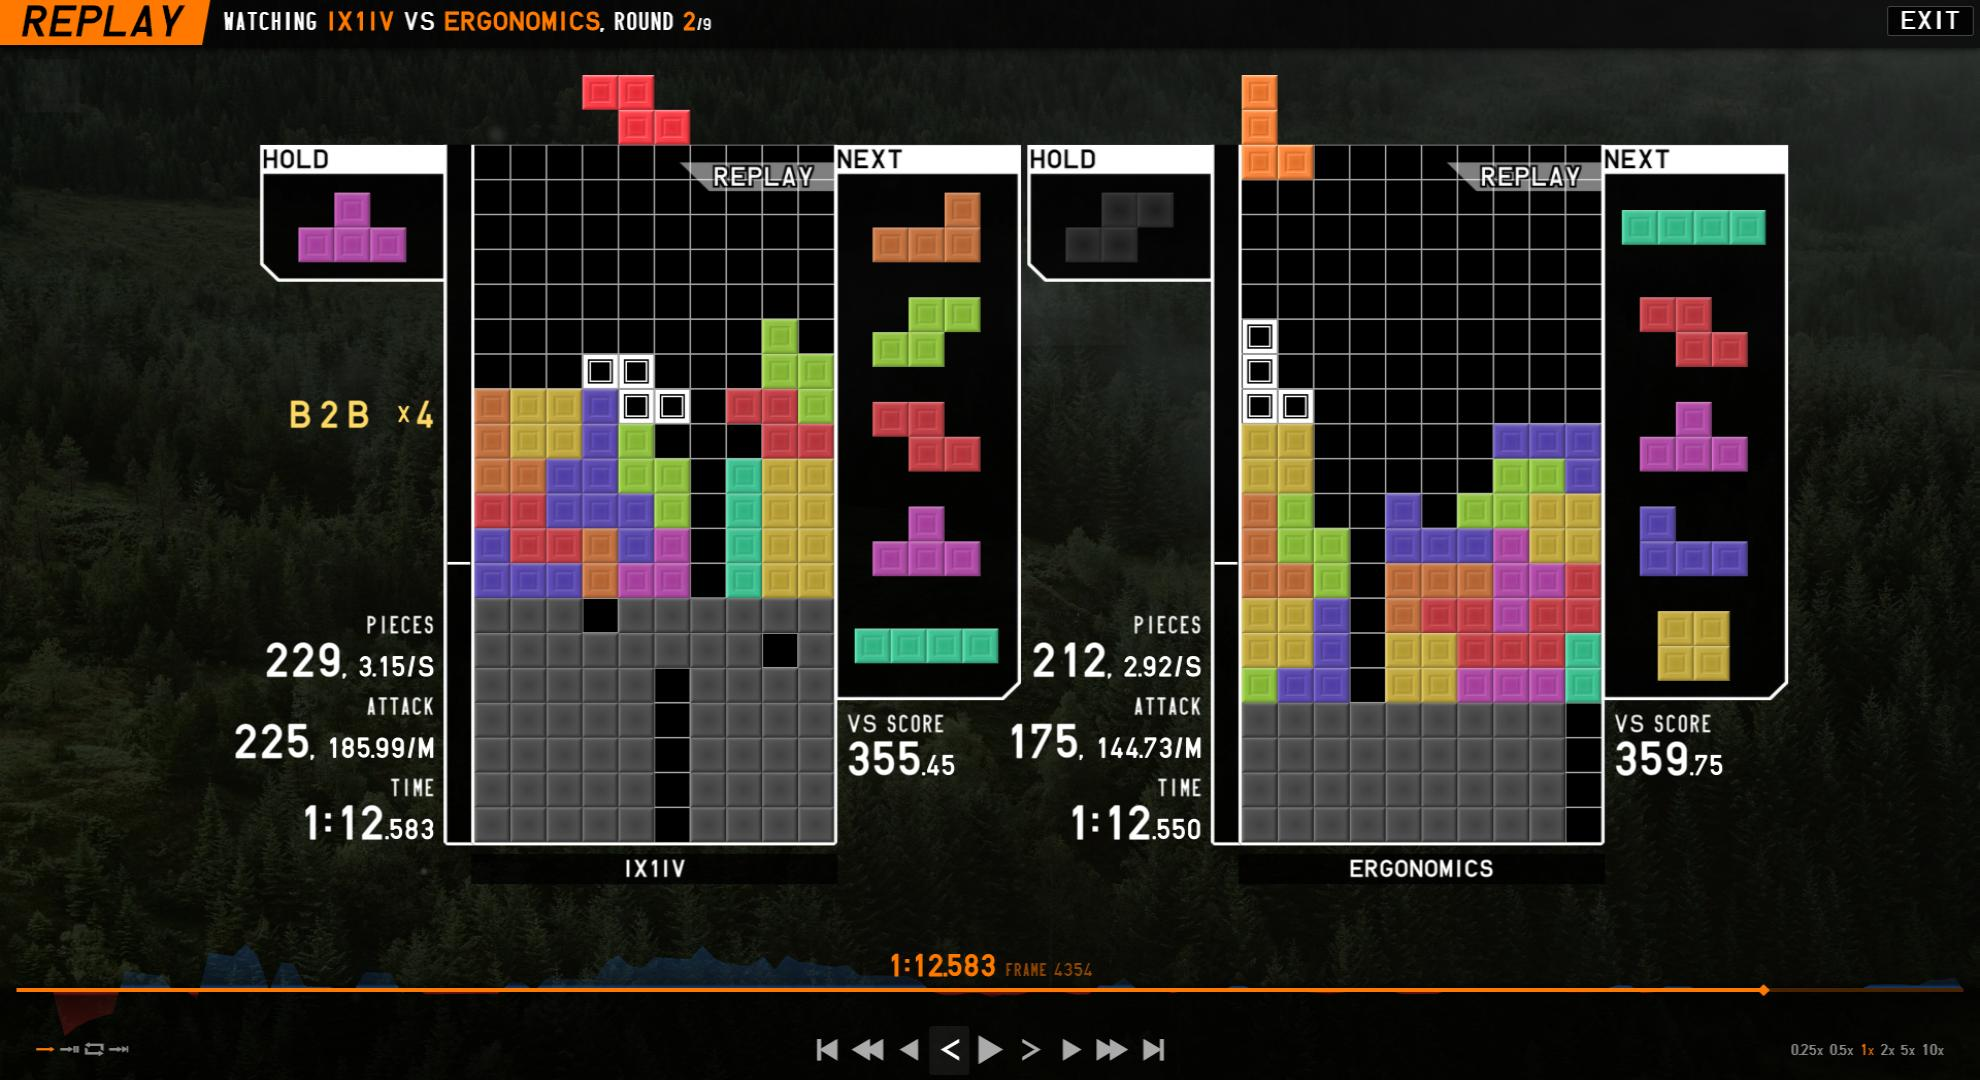tspin: (654, 384, 771, 495)
